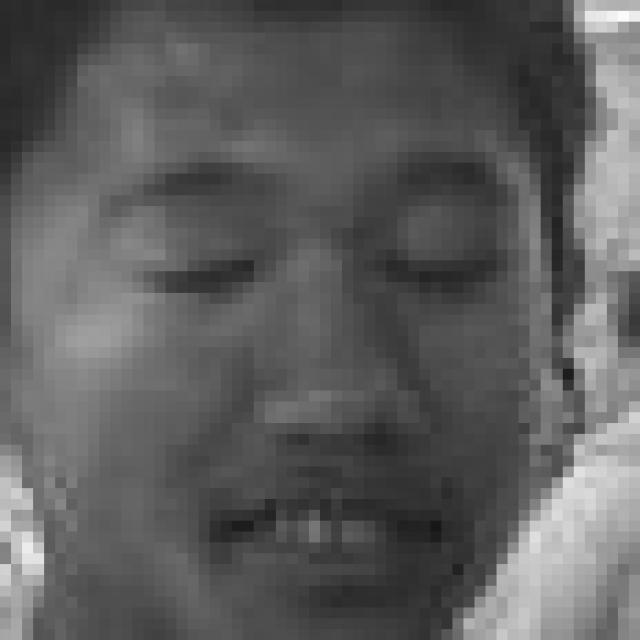real: (23, 46, 557, 634), (126, 172, 484, 342)
